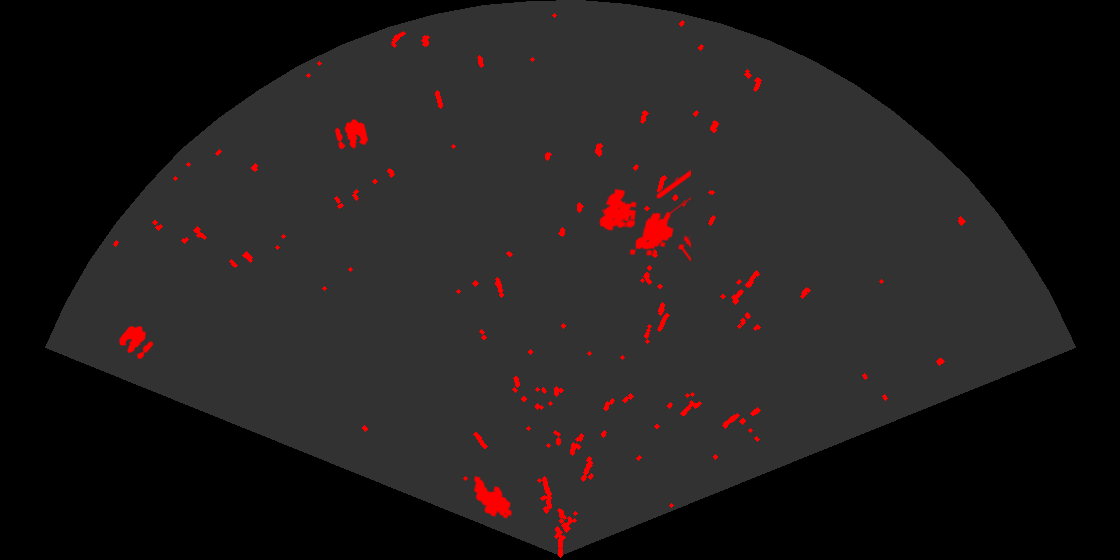AUV: (472, 474, 514, 520)
ball: (118, 324, 155, 361), (333, 118, 370, 151)
cage: (598, 168, 691, 263)
